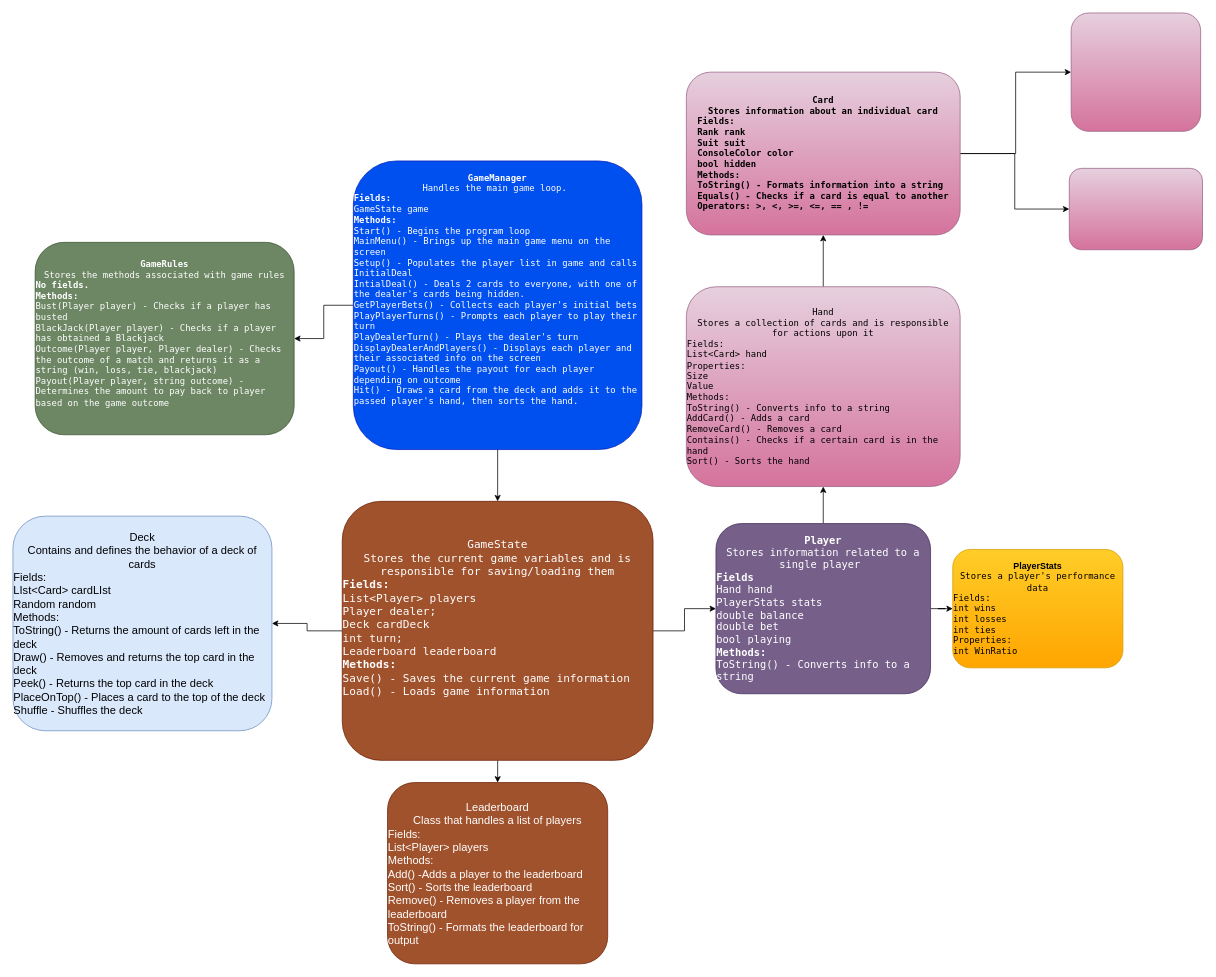
The diagram is 1216 pixels wide and 977 high, and some of its shapes have lost their labels. Here are the shapes that lost their labels. From the top down, the box of each, then its label:
(1070, 12, 1201, 131): Rank Enum that stores the possible ranks of a card and their values
(1069, 168, 1202, 250): Suit Enum that stores all card suits
